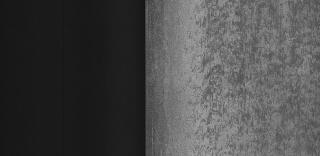silk spot: (180, 6, 320, 154)
